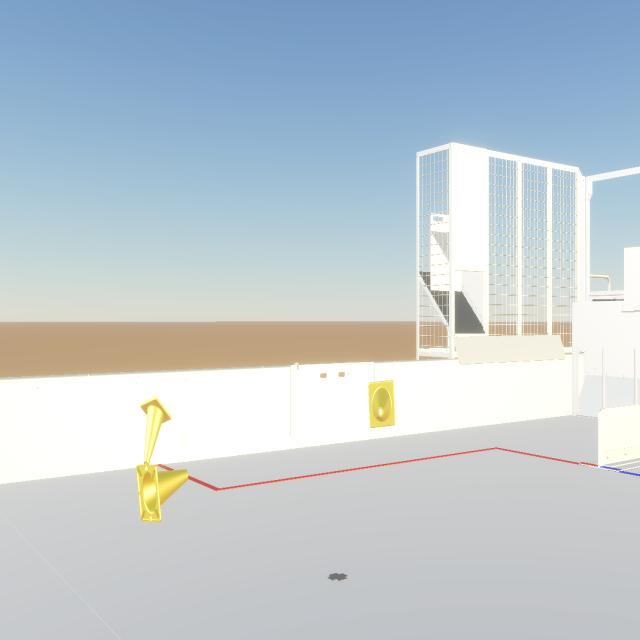frc_cone: (136, 464, 188, 522), (140, 396, 172, 464), (368, 380, 395, 428)
